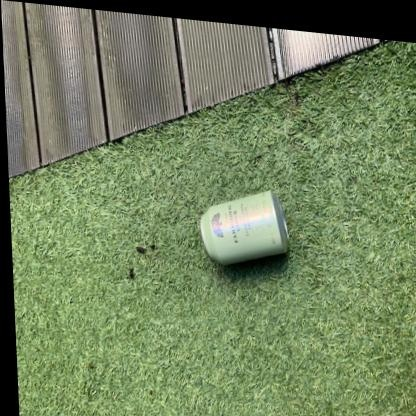trash: (200, 191, 287, 264)
